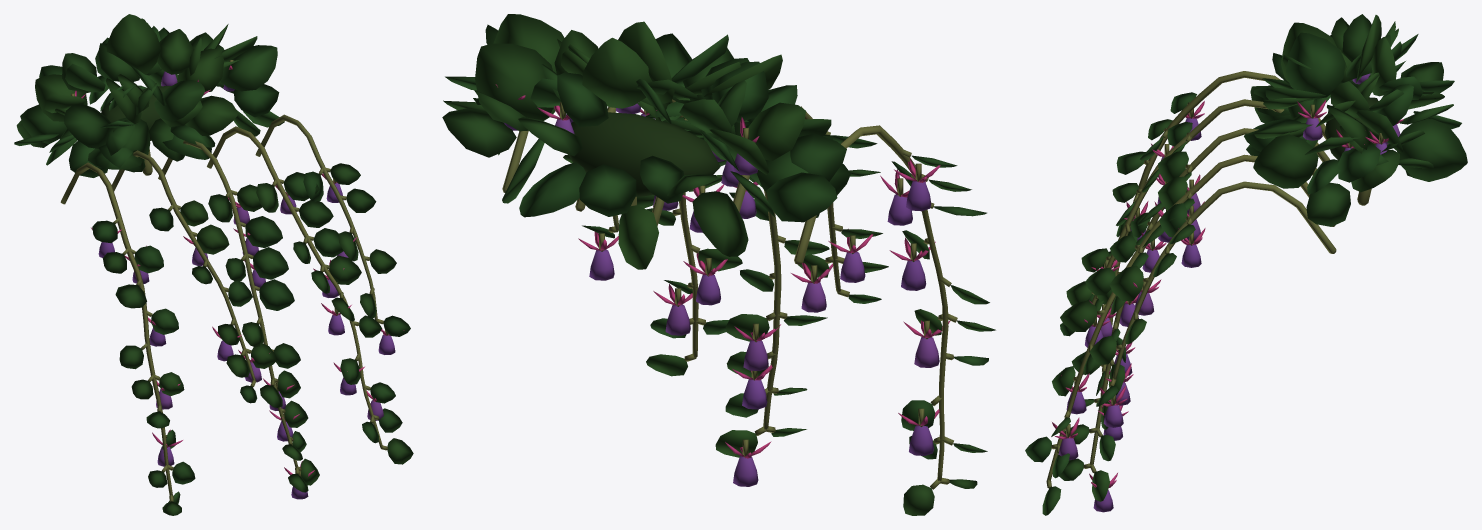
File: box_fuchsia.glb
3 views of the same model, side by side, from view 1: azimuth 30°, elevation 25°; view 2: azimuth 150°, elevation 25°; view 3: azimuth 270°, elevation 25° (orthographic). The views are drawn at different scales.
Parts seen in each view (by area): view 1: Sammel Pflanze, Sammel Putz, Sammel Blatt; view 2: Sammel Pflanze, Sammel Putz, Sammel Blatt; view 3: Sammel Pflanze, Sammel Putz, Sammel Blatt.
Part boxes in pixels (left/top/right/bottom): Sammel Pflanze: left=14, top=14, right=413, bottom=515; Sammel Putz: left=60, top=60, right=388, bottom=501; Sammel Blatt: left=101, top=86, right=170, bottom=140; Sammel Pflanze: left=442, top=14, right=995, bottom=515; Sammel Putz: left=502, top=99, right=957, bottom=489; Sammel Blatt: left=568, top=112, right=720, bottom=196; Sammel Pflanze: left=1025, top=14, right=1467, bottom=515; Sammel Putz: left=1046, top=71, right=1383, bottom=488; Sammel Blatt: left=1324, top=97, right=1378, bottom=160.
Size of the model in its own units: 0.3476 by 0.4791 by 0.4136.
